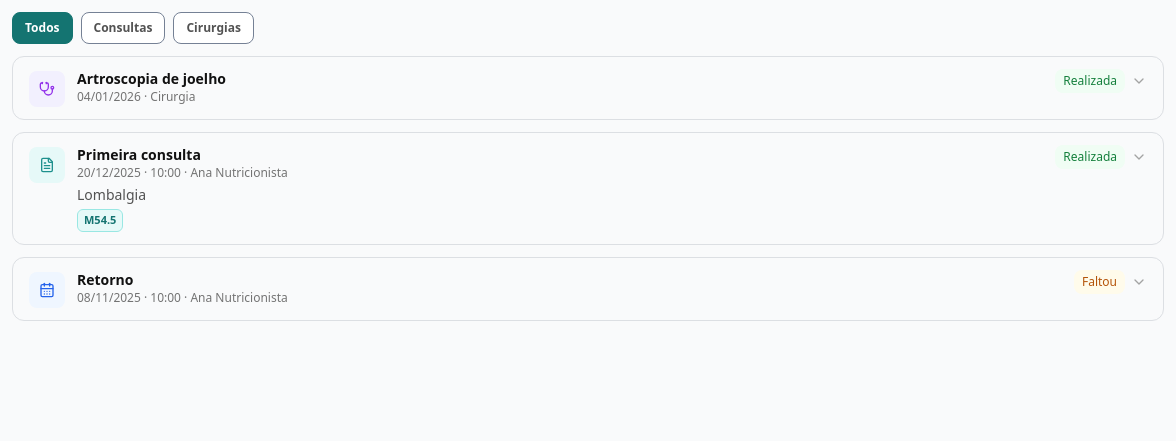
Test: PatientHistoryTab › informa quando a consulta não tem ficha
What coordinates should you click on to do the following:
click the button "Retorno 08/11/2025 · 10:00 · Ana Nutricionista Faltou"
I would click on:
 (47, 290)
Its box is [13,258,1163,320].
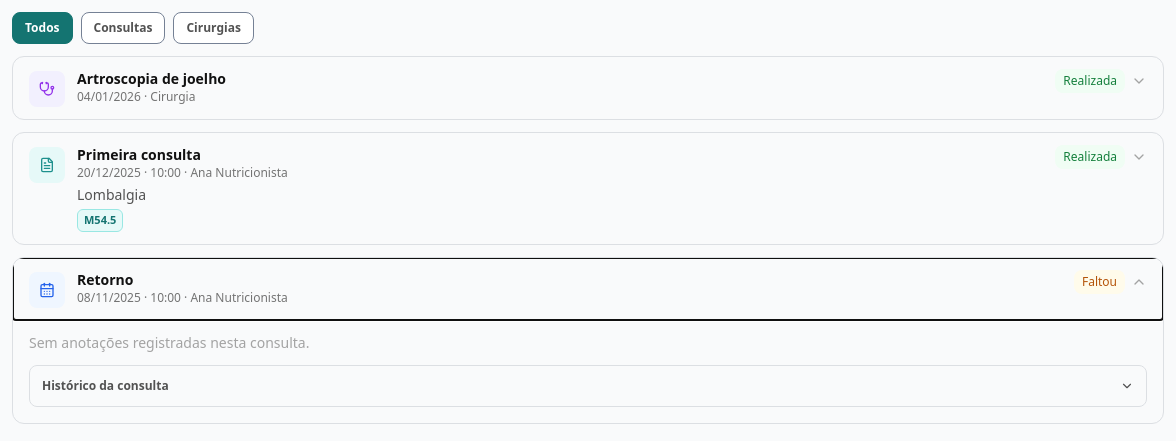
Check: the text "Sem anotações registradas nesta consulta." is shown, box [29,332,310,352]
